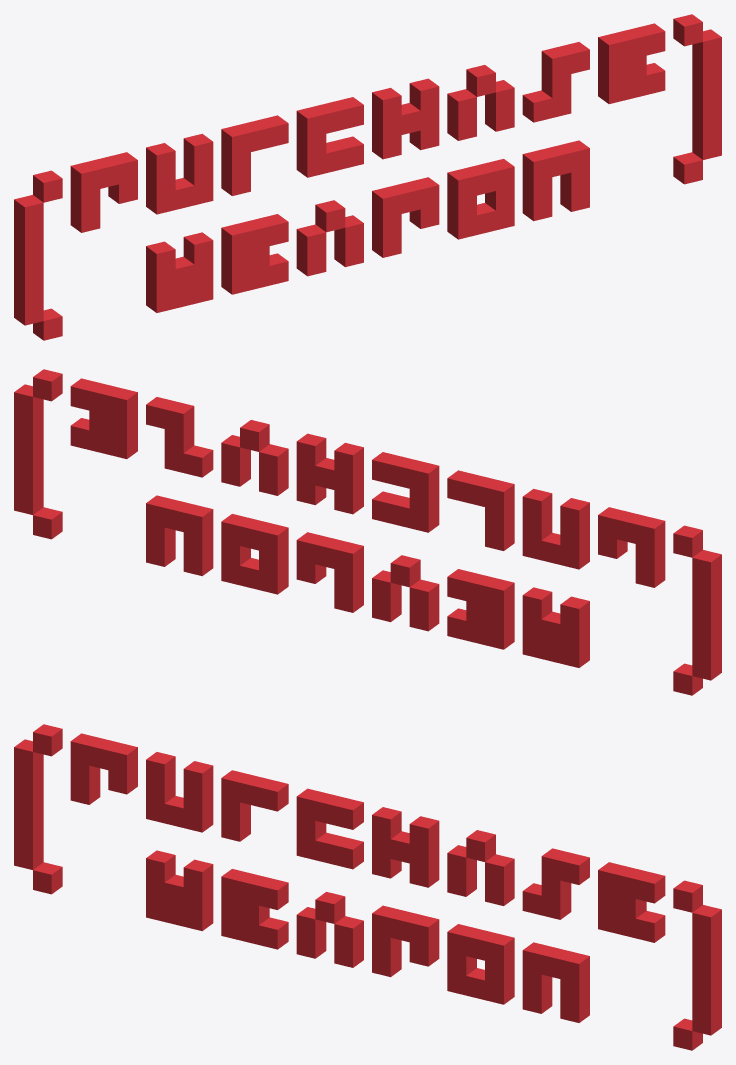
Rendered from PurchaseWeapon.obj.
3 views of the same model, one above another, from view 1: azimuth 30°, elevation 25°; view 2: azimuth 150°, elevation 25°; view 3: azimuth 330°, elevation 25° (orthographic).
Parts seen in each view (by area): view 1: PurchaseWeapon; view 2: PurchaseWeapon; view 3: PurchaseWeapon.
Boxes of the visible parts, left/top/right/bottom form: PurchaseWeapon: left=14, top=14, right=721, bottom=340; PurchaseWeapon: left=14, top=369, right=721, bottom=695; PurchaseWeapon: left=14, top=724, right=721, bottom=1050.
Bounding box in the file's own units: 37 × 8 × 1.
Materials: 1 (1 with a texture image).
